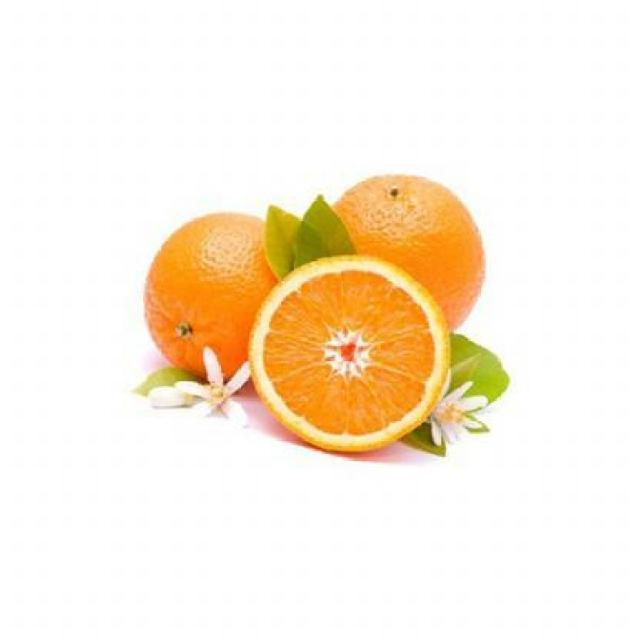Jeruk Sudah Matang: (318, 174, 487, 343), (142, 208, 300, 384)
